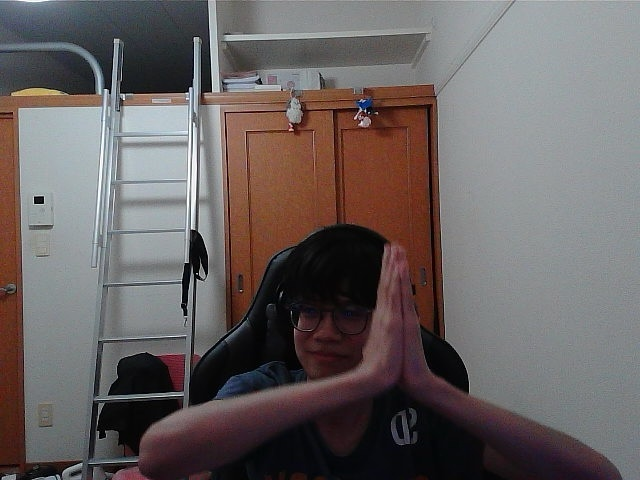pray: (371, 258, 397, 362)
